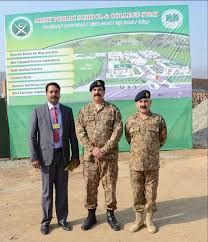uniform: (78, 101, 121, 221), (126, 111, 167, 221)
